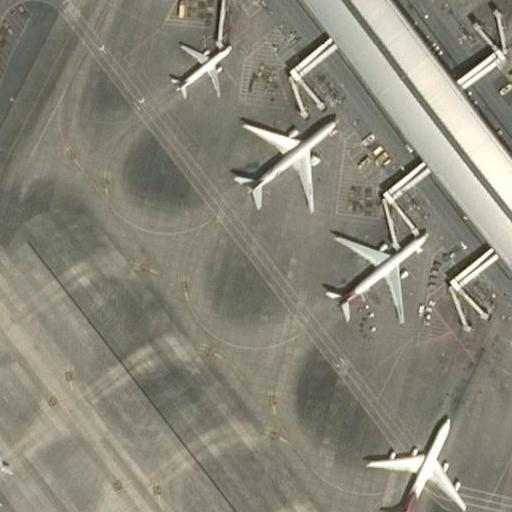Aircraft: (360, 411, 469, 512), (319, 227, 430, 322), (224, 117, 336, 211), (164, 37, 229, 98), (0, 454, 11, 512)
